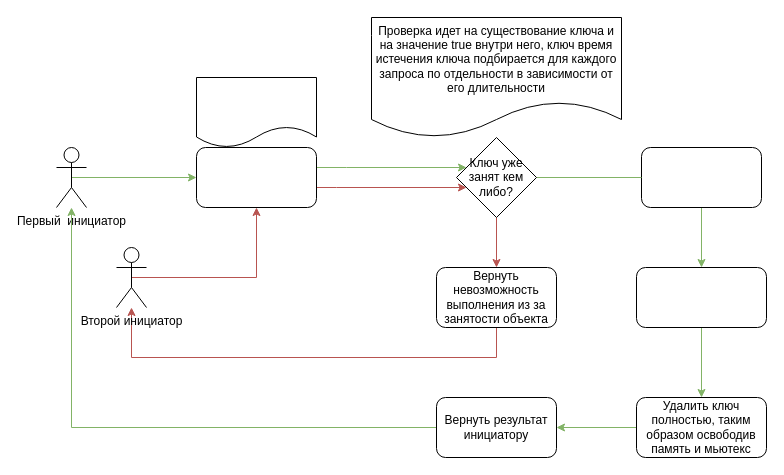
Image size: 784x475. Some labels were removed from this diagram. Here are the shapes that lost their labels. From the top down, the centre of each, then its label:
At [256,112]: "На основании объекта связанного с единоличным процессом".
At [256,177]: "Сгенерировать ключ функцией get_mutex_key".
At [701,177]: "Заполнить ключ значением true".
At [701,297]: "Единоличный процесс под мьютексом".
